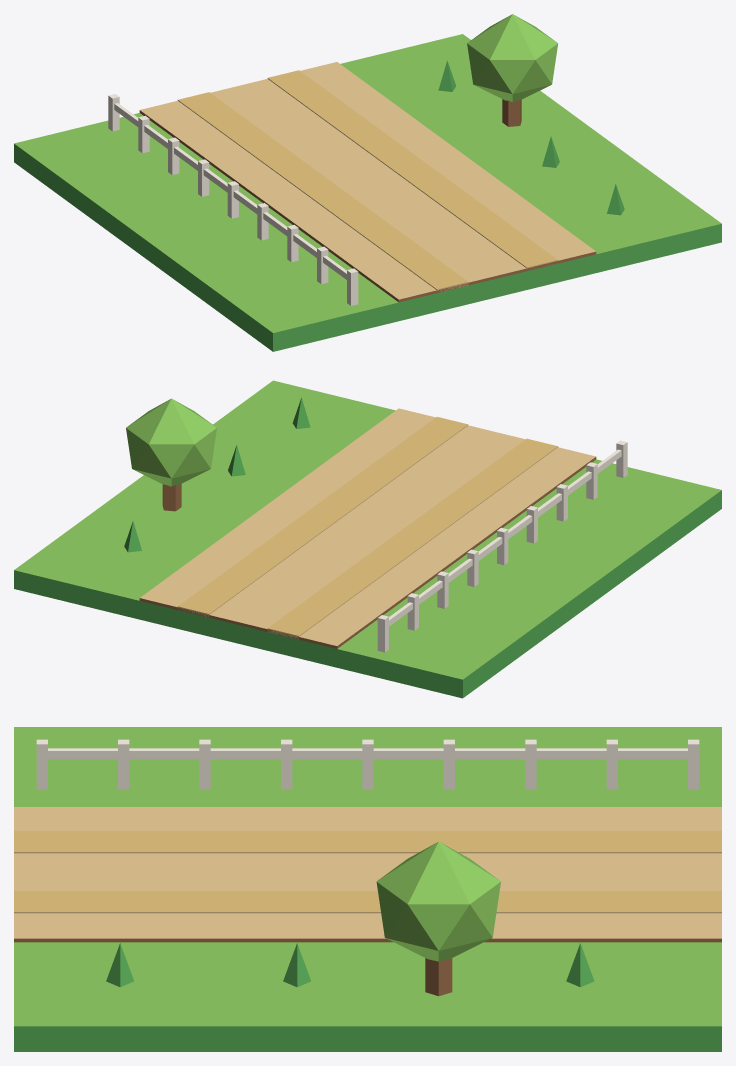
File: road_dirt_straight.glb
3 views of the same model, one above another, from view 1: azimuth 30°, elevation 25°; view 2: azimuth 150°, elevation 25°; view 3: azimuth 270°, elevation 25° (orthographic). The views are drawn at different scales.
Parts seen in each view (by area): view 1: road_dirt_straight; view 2: road_dirt_straight; view 3: road_dirt_straight.
Part boxes in pixels (bbox=[...]): road_dirt_straight: bbox=[14, 14, 721, 351]; road_dirt_straight: bbox=[14, 380, 721, 698]; road_dirt_straight: bbox=[14, 727, 721, 1051].
Bounding box in the file's own units: 1 × 0.272 × 1.
